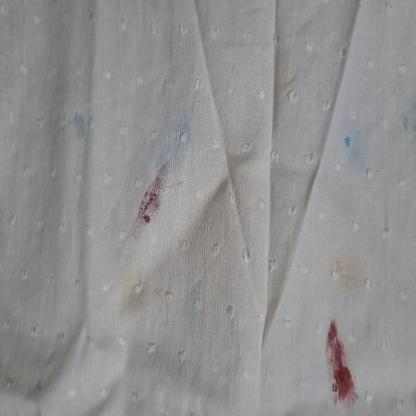spot: (324, 315, 363, 413), (130, 156, 169, 242), (331, 256, 367, 294), (124, 274, 145, 310), (350, 130, 366, 169), (74, 111, 87, 142), (402, 107, 416, 135), (168, 134, 180, 162), (156, 143, 171, 163), (178, 121, 190, 144), (150, 284, 166, 298), (342, 135, 352, 147)
